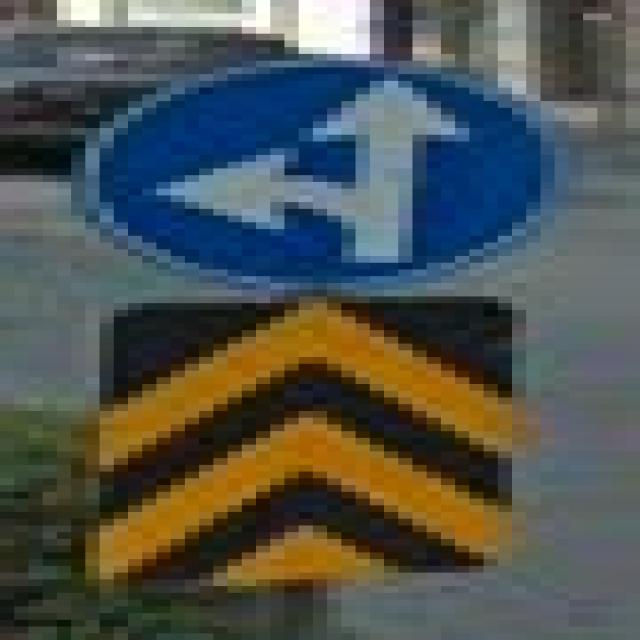Straight or Left: (72, 65, 556, 287)
